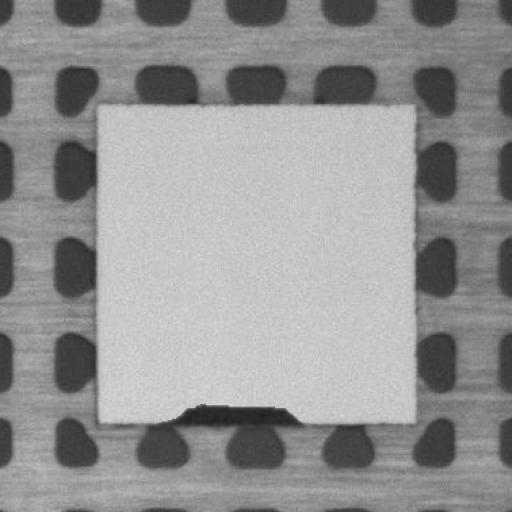DIE_BROKEN: (157, 394, 304, 426)
